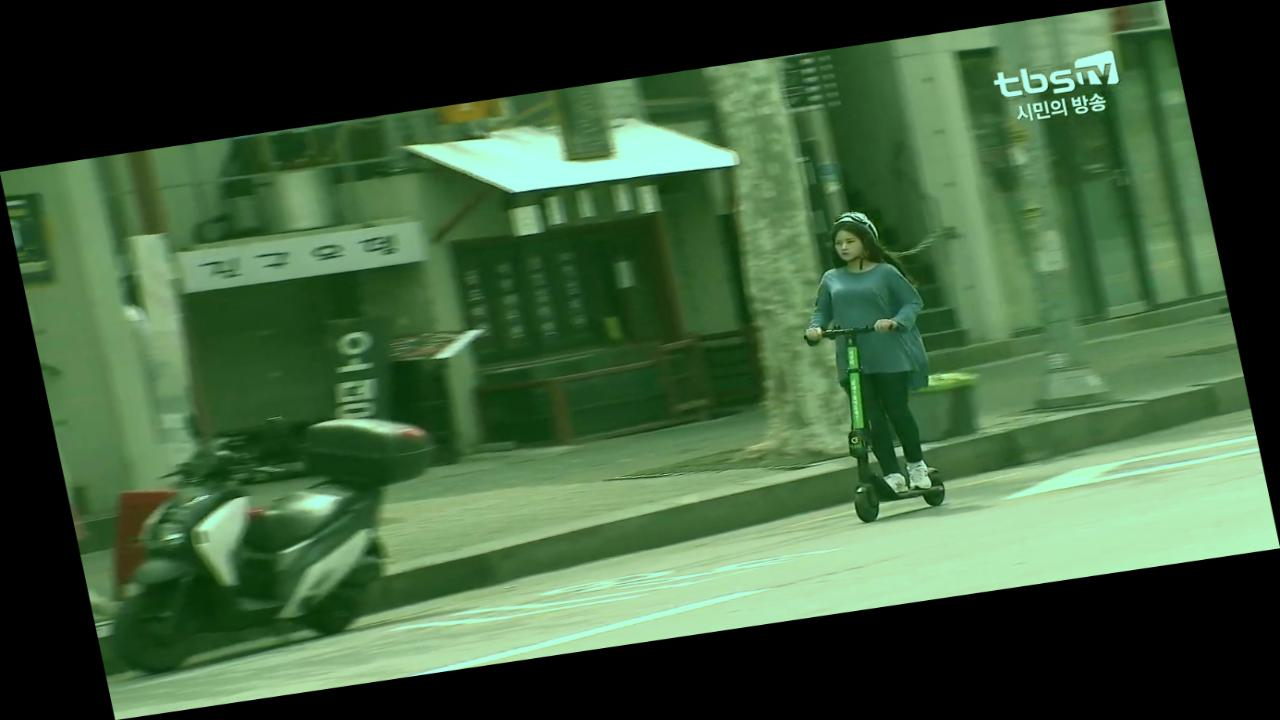helmet: (779, 202, 967, 529)
